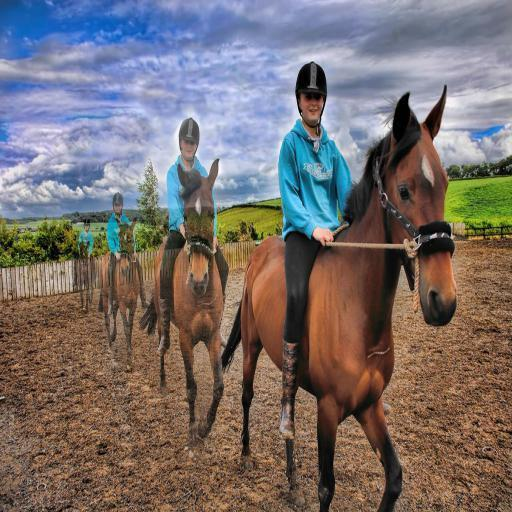horse: (218, 86, 458, 512), (137, 152, 227, 440), (96, 214, 144, 366), (74, 242, 92, 326)
